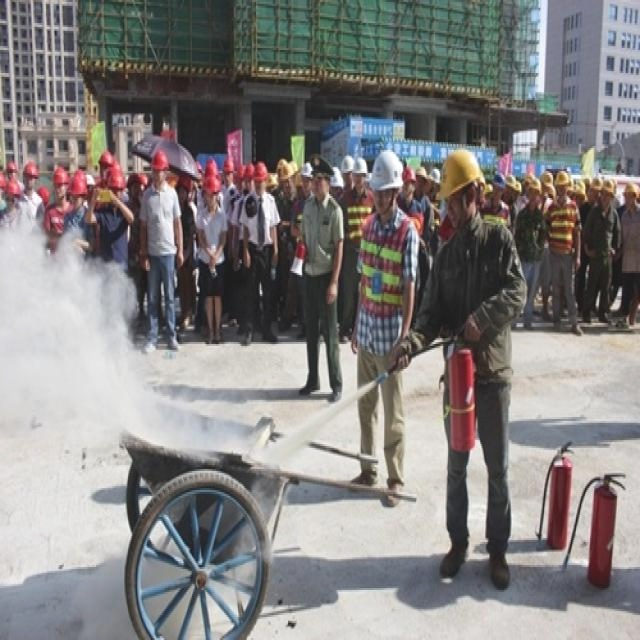Con_Casco: (438, 146, 487, 225), (370, 149, 405, 216)
Con_Chaleco: (359, 213, 417, 313)
Sin_Chaleco: (440, 226, 512, 342)
